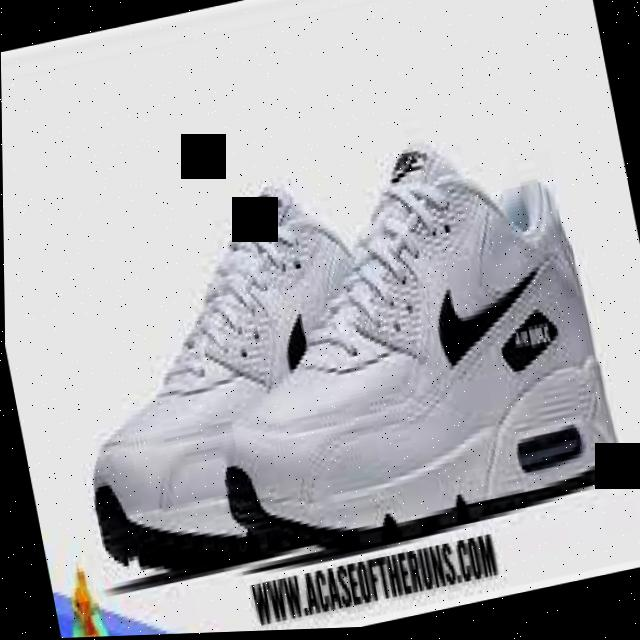shoes: (37, 116, 629, 608), (168, 120, 626, 575)
